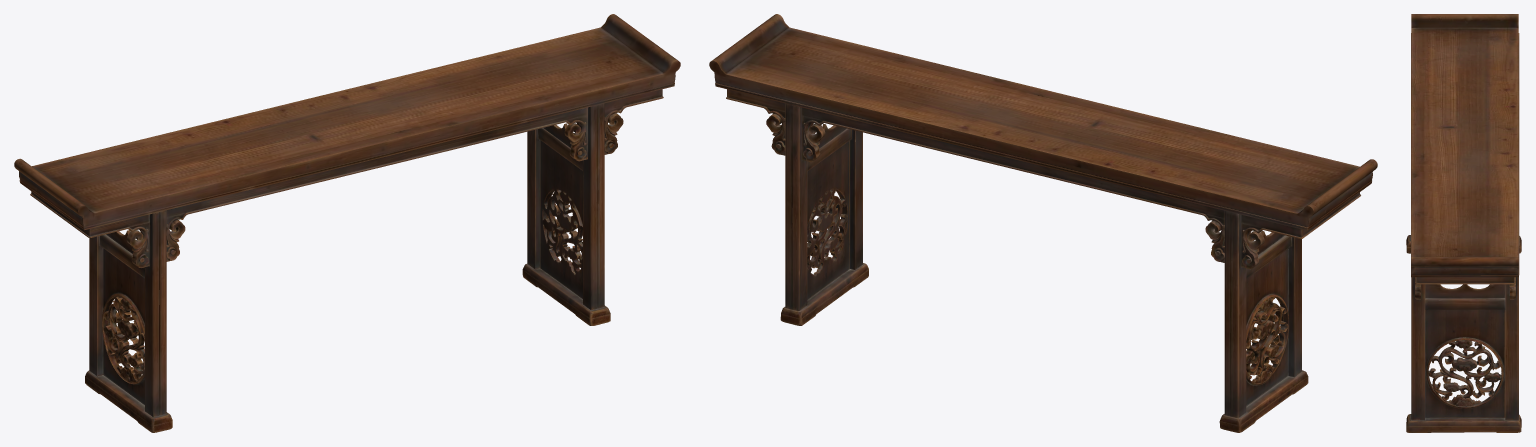
The picture shows the model from 3 angles, left to right: view 1: azimuth 30°, elevation 25°; view 2: azimuth 150°, elevation 25°; view 3: azimuth 270°, elevation 25°; orthographic projection. The views are drawn at different scales.
Visible parts, largest first — view 1: chinese_console_table; view 2: chinese_console_table; view 3: chinese_console_table.
Part boxes in pixels (x1=…): chinese_console_table: x1=14, y1=14, x2=680, y2=432; chinese_console_table: x1=709, y1=14, x2=1377, y2=432; chinese_console_table: x1=1406, y1=14, x2=1521, y2=432.
Bounding box in the file's own units: 1.72 × 0.6607 × 0.3388.
1 material, 1 textured.
